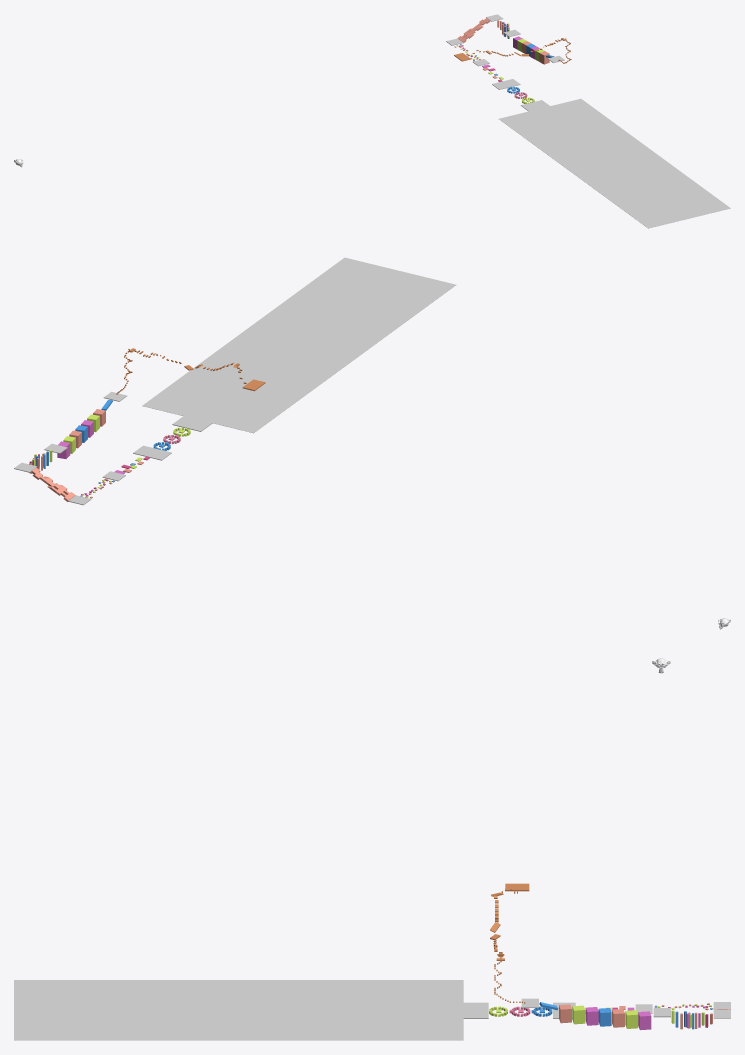
The picture shows the model from 3 angles, top to bottom: view 1: azimuth 30°, elevation 25°; view 2: azimuth 150°, elevation 25°; view 3: azimuth 270°, elevation 25°; orthographic projection. The views are drawn at different scales.
Parts seen in each view (by area): view 1: Box; view 2: Box; view 3: Box.
Part boxes in pixels (bbox=[...]): Box: bbox=[498, 98, 730, 228]; Box: bbox=[142, 257, 456, 433]; Box: bbox=[14, 980, 463, 1040].
Bounding box in the file's own units: 3538 × 402 × 2899.
